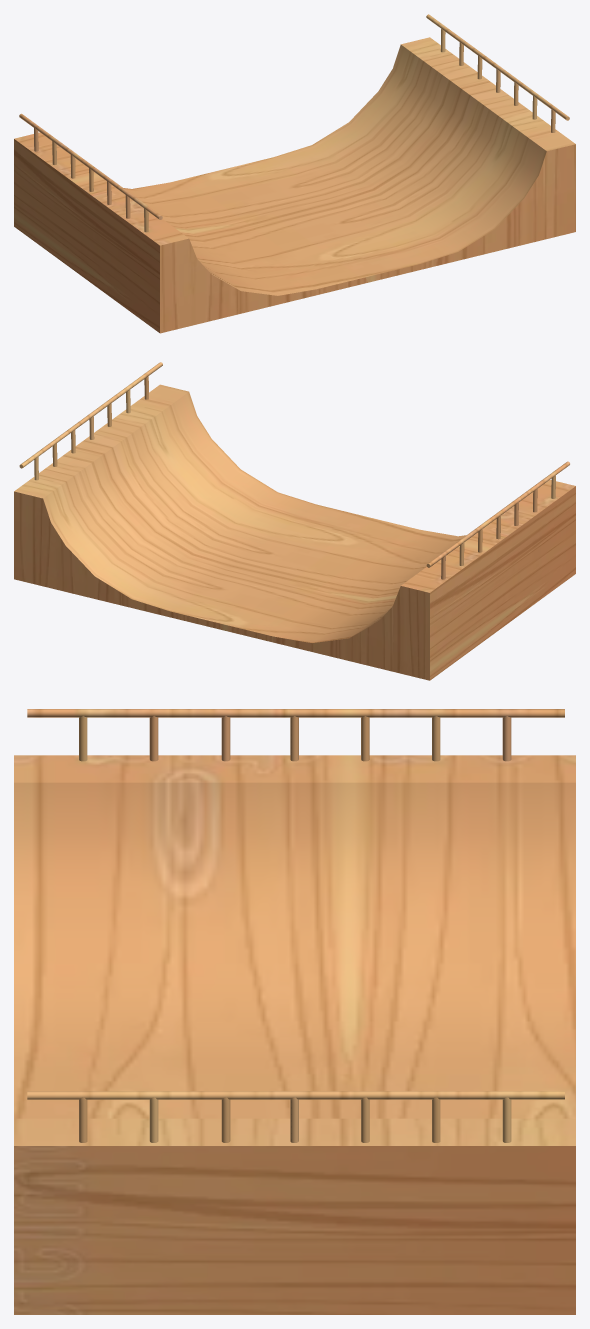
File: skaterFinal.obj
3 views of the same model, one above another, from view 1: azimuth 30°, elevation 25°; view 2: azimuth 150°, elevation 25°; view 3: azimuth 270°, elevation 25° (orthographic). The views are drawn at different scales.
Parts seen in each view (by area): view 1: ramp; view 2: ramp; view 3: ramp.
Part boxes in pixels (<box>): ramp: <box>14,14,575,333</box>; ramp: <box>14,362,575,680</box>; ramp: <box>14,709,575,1314</box>.
Bounding box in the file's own units: 65.28 × 17.07 × 39.71.
